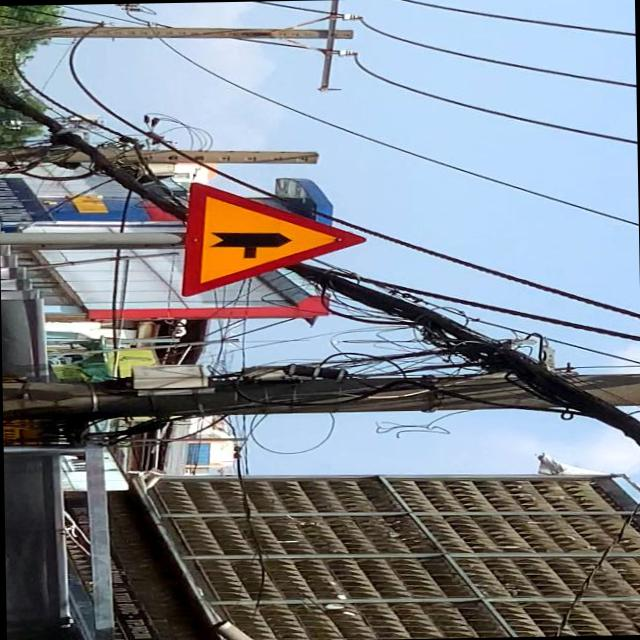W-207b: (178, 178, 369, 296)
